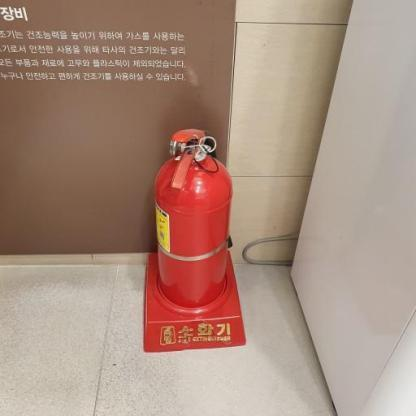Fire Extinguisher: (146, 124, 244, 316)
